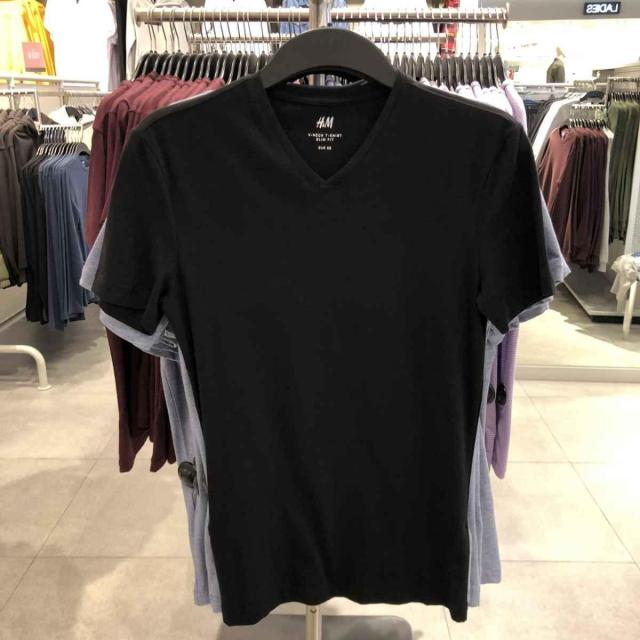Tshirt: (91, 80, 548, 635)
